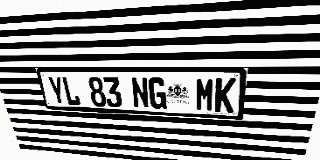3: (103, 77, 122, 107)
8: (87, 77, 107, 107)
G: (148, 77, 167, 109)
K: (214, 78, 236, 112)
L: (61, 77, 81, 106)
M: (195, 78, 215, 112)
N: (131, 77, 150, 109)
Y: (47, 76, 67, 105)
